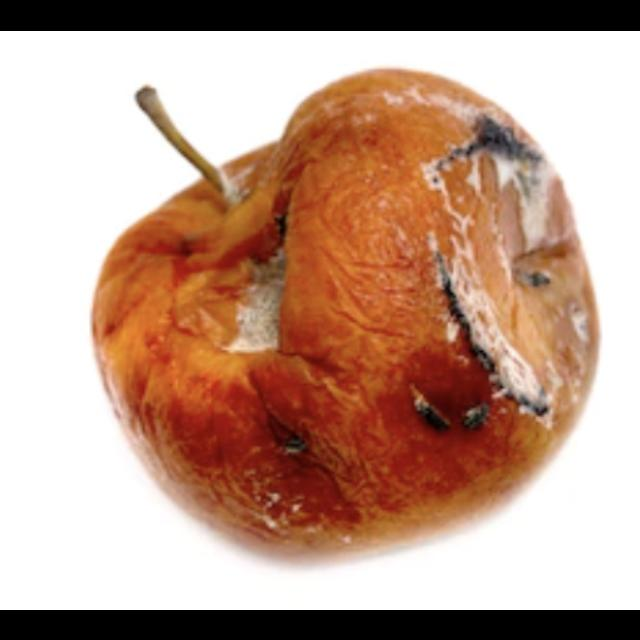Apel Tidak Segar: (26, 52, 622, 574)
